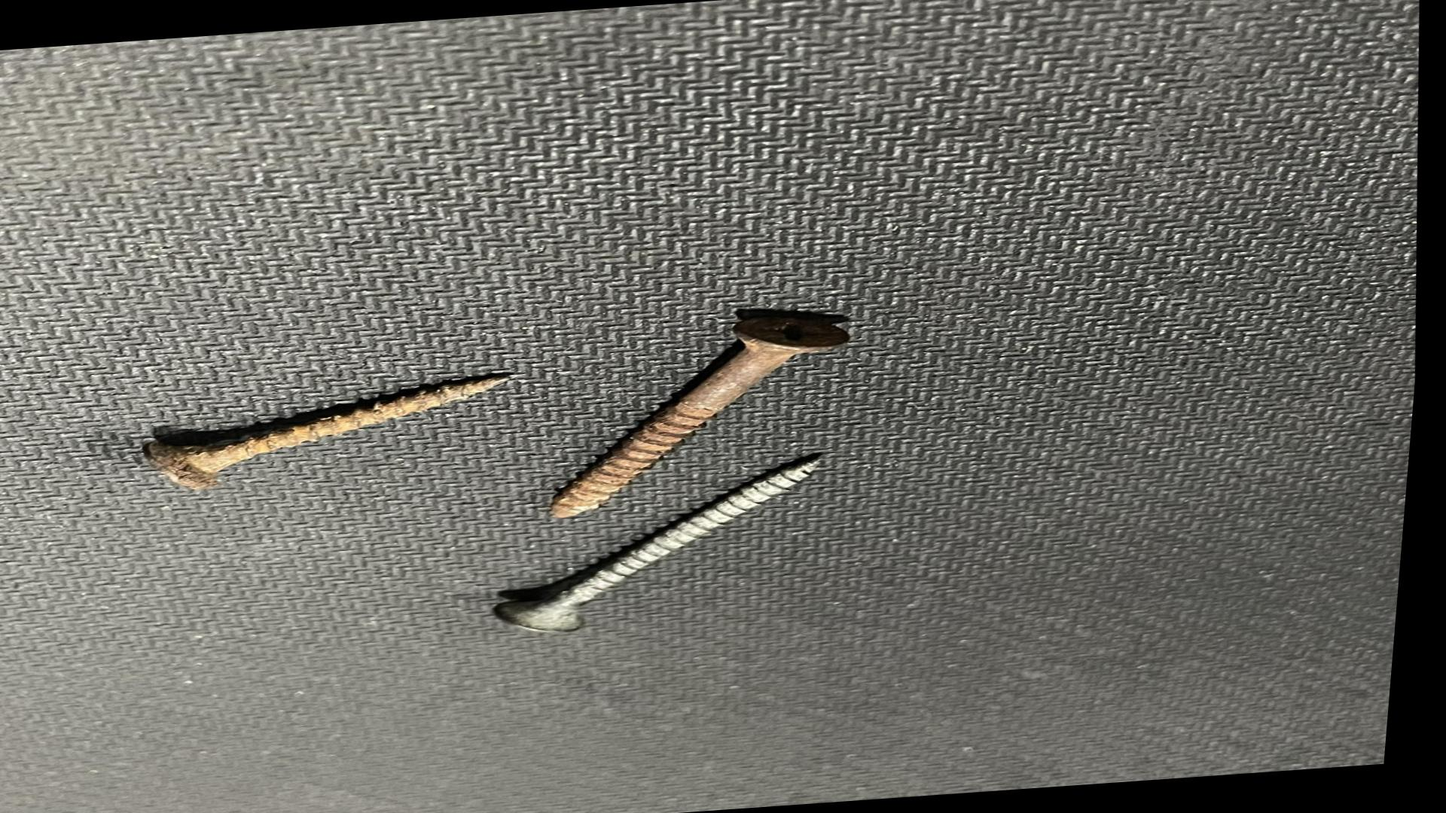screw: (430, 283, 898, 522), (452, 451, 910, 658), (86, 342, 573, 505)
